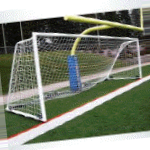goals: (3, 31, 144, 124)
